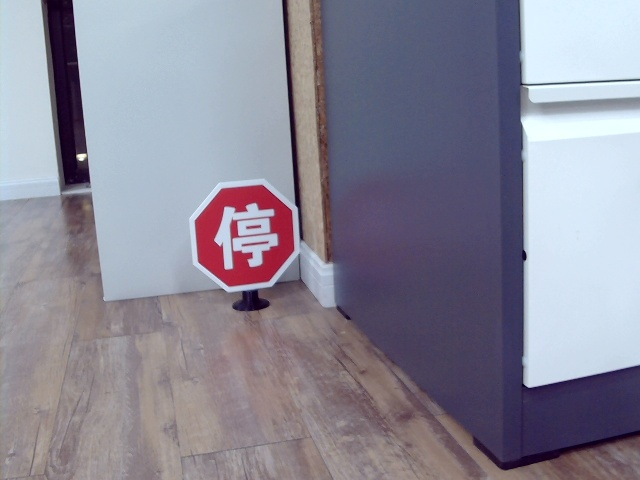stop: (212, 200, 278, 268)
